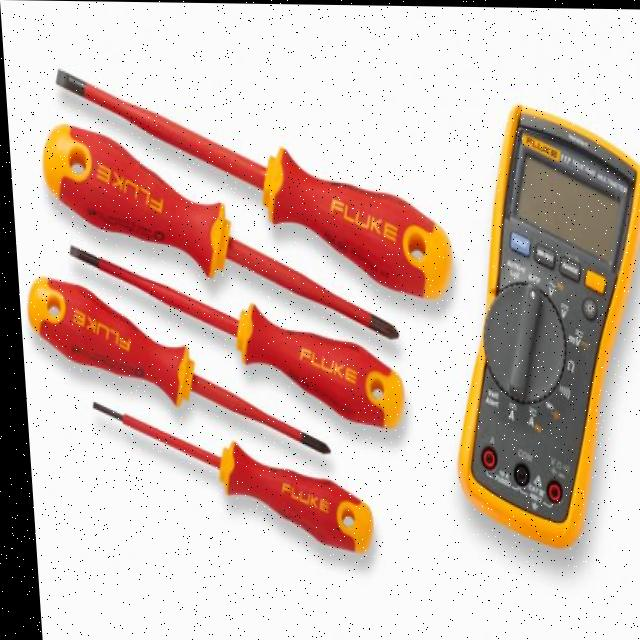Screwdriver: (56, 70, 448, 296), (43, 124, 392, 337), (67, 246, 398, 425), (24, 278, 323, 452), (87, 405, 366, 552)
